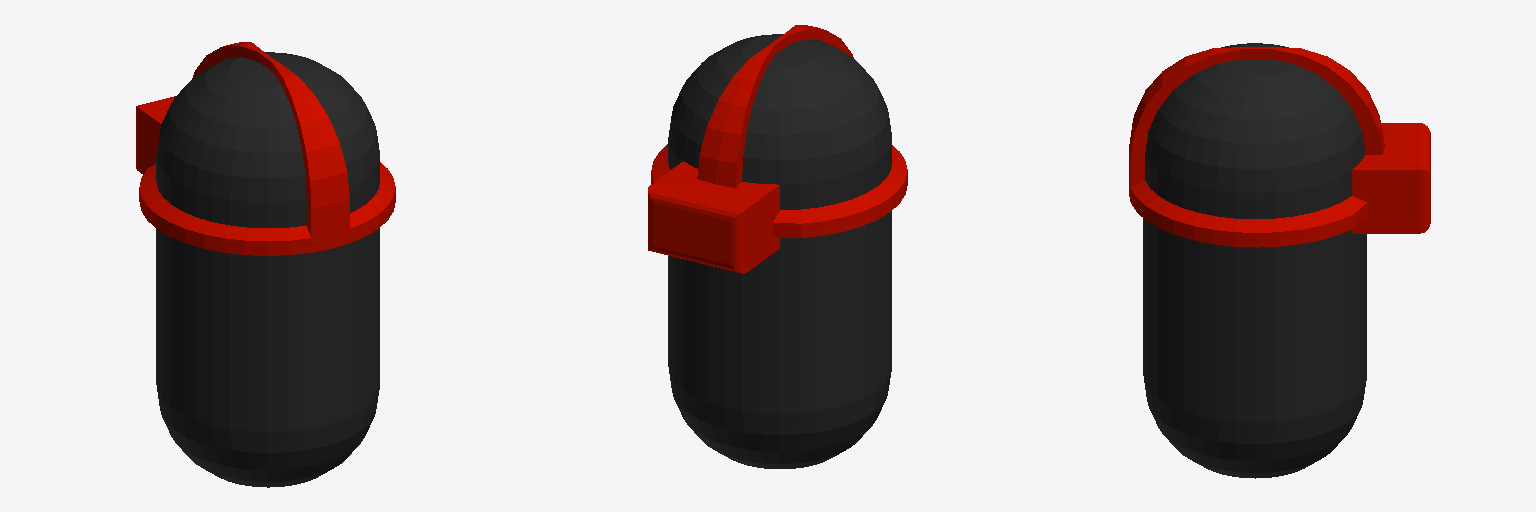
File: Player.obj
The picture shows the model from 3 angles: view 1: azimuth 30°, elevation 25°; view 2: azimuth 150°, elevation 25°; view 3: azimuth 270°, elevation 25°; orthographic projection.
Visible parts, largest first — view 1: Cylinder; view 2: Cylinder; view 3: Cylinder.
Part boxes in pixels (left/top/right/bottom): Cylinder: left=136, top=42, right=395, bottom=487; Cylinder: left=648, top=25, right=907, bottom=468; Cylinder: left=1129, top=43, right=1430, bottom=478.
Size of the model in its own units: 2.29 by 4.1 by 2.7.